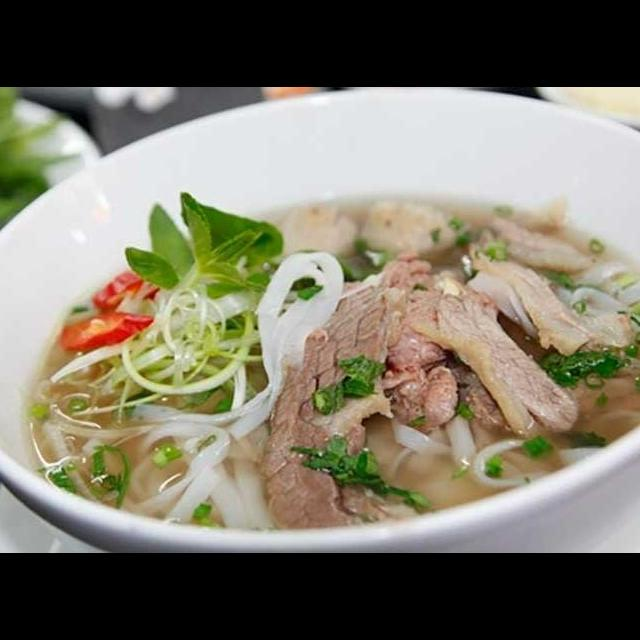banh pho: (111, 383, 288, 540), (359, 408, 559, 502), (550, 255, 640, 348)
pho bo: (0, 155, 640, 549)
thit bo: (247, 246, 534, 541), (391, 240, 635, 447)
